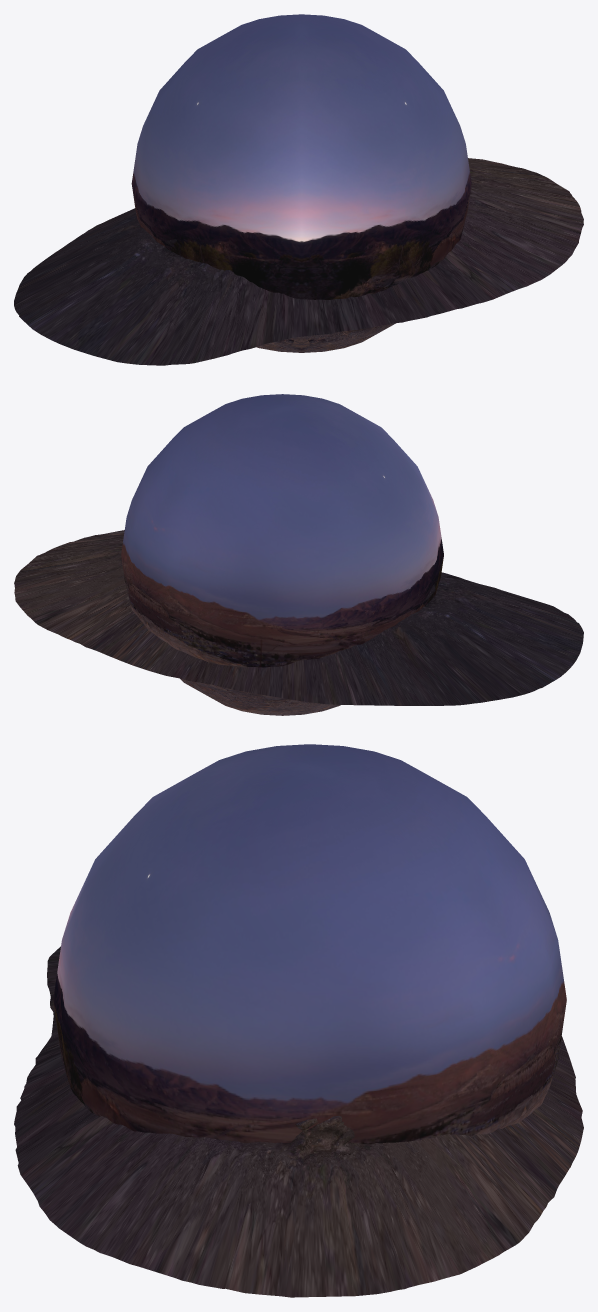
3 renders of one model, top to bottom at view 1: azimuth 30°, elevation 25°; view 2: azimuth 150°, elevation 25°; view 3: azimuth 270°, elevation 25°, orthographic. The views are drawn at different scales.
Visible parts, largest first — view 1: Skybox_4, Icelandic_Rock_tdpseesda_0; view 2: Skybox_4, Icelandic_Rock_tdpseesda_0; view 3: Skybox_4, Icelandic_Rock_tdpseesda_0.
Part boxes in pixels (<box>): Skybox_4: <box>131,14,471,352</box>; Icelandic_Rock_tdpseesda_0: <box>14,158,583,365</box>; Skybox_4: <box>121,394,443,715</box>; Icelandic_Rock_tdpseesda_0: <box>14,530,583,705</box>; Skybox_4: <box>53,744,566,1143</box>; Icelandic_Rock_tdpseesda_0: <box>14,946,583,1297</box>.
Size of the model in its own units: 179 by 96.98 by 108.
Materials: 7 (6 with a texture image).
